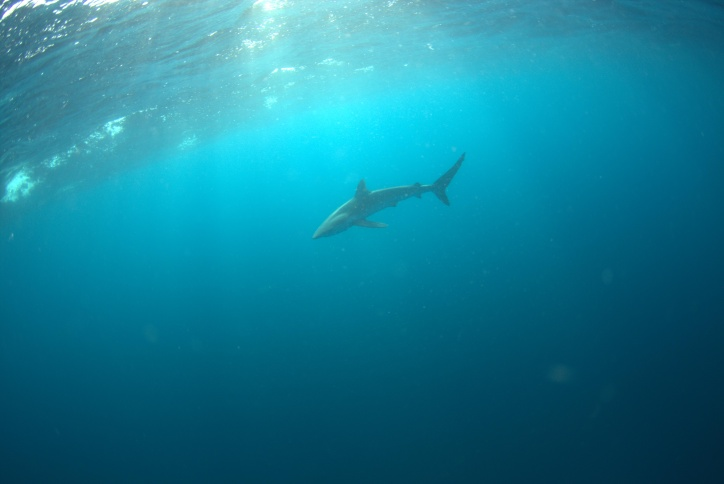Sedoso: (284, 133, 492, 265)
